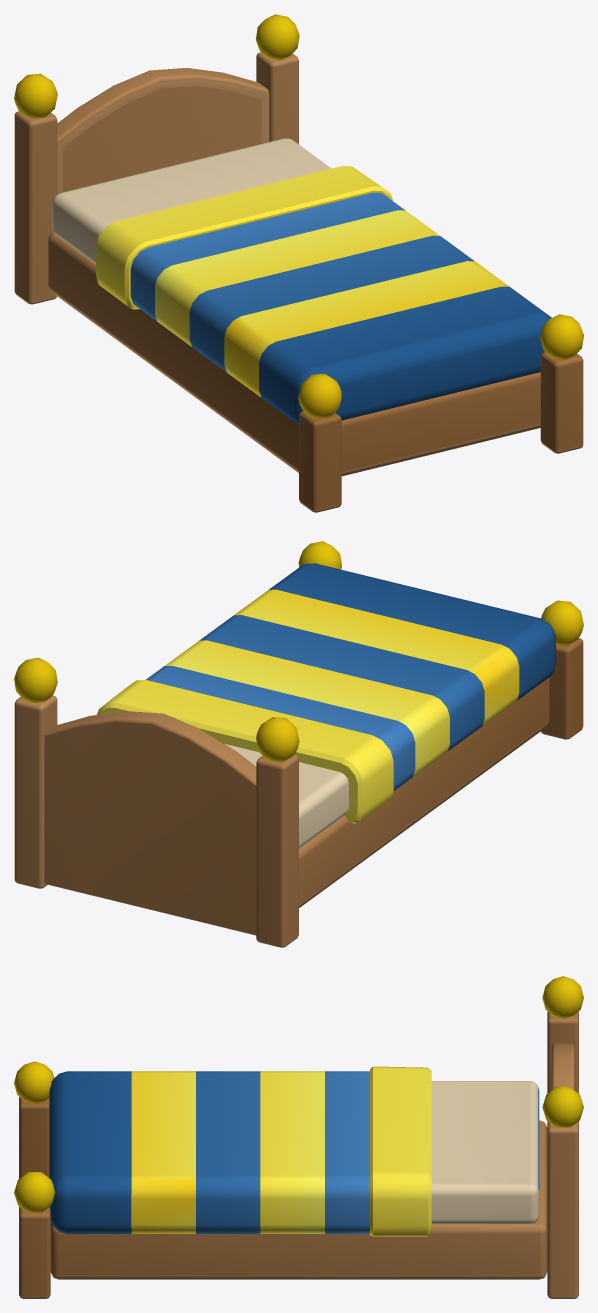
Rendered from Single Bed_12.fbx.
3 views of the same model, one above another, from view 1: azimuth 30°, elevation 25°; view 2: azimuth 150°, elevation 25°; view 3: azimuth 270°, elevation 25° (orthographic). The views are drawn at different scales.
Visible parts, largest first — view 1: Single Bed_12; view 2: Single Bed_12; view 3: Single Bed_12.
Part boxes in pixels (left/top/right/bottom): Single Bed_12: left=14, top=14, right=583, bottom=512; Single Bed_12: left=14, top=541, right=583, bottom=947; Single Bed_12: left=14, top=976, right=583, bottom=1298.
Bounding box in the file's own units: 1.11 × 0.8491 × 2.12.
